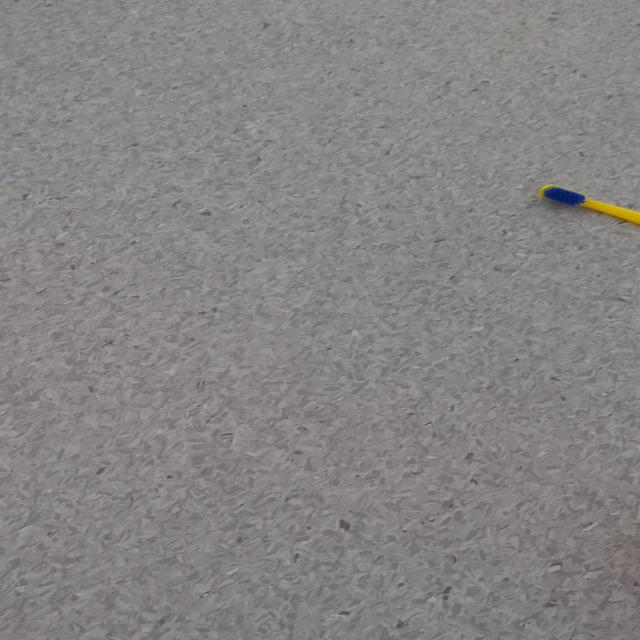toothbrush: (537, 184, 639, 226)
